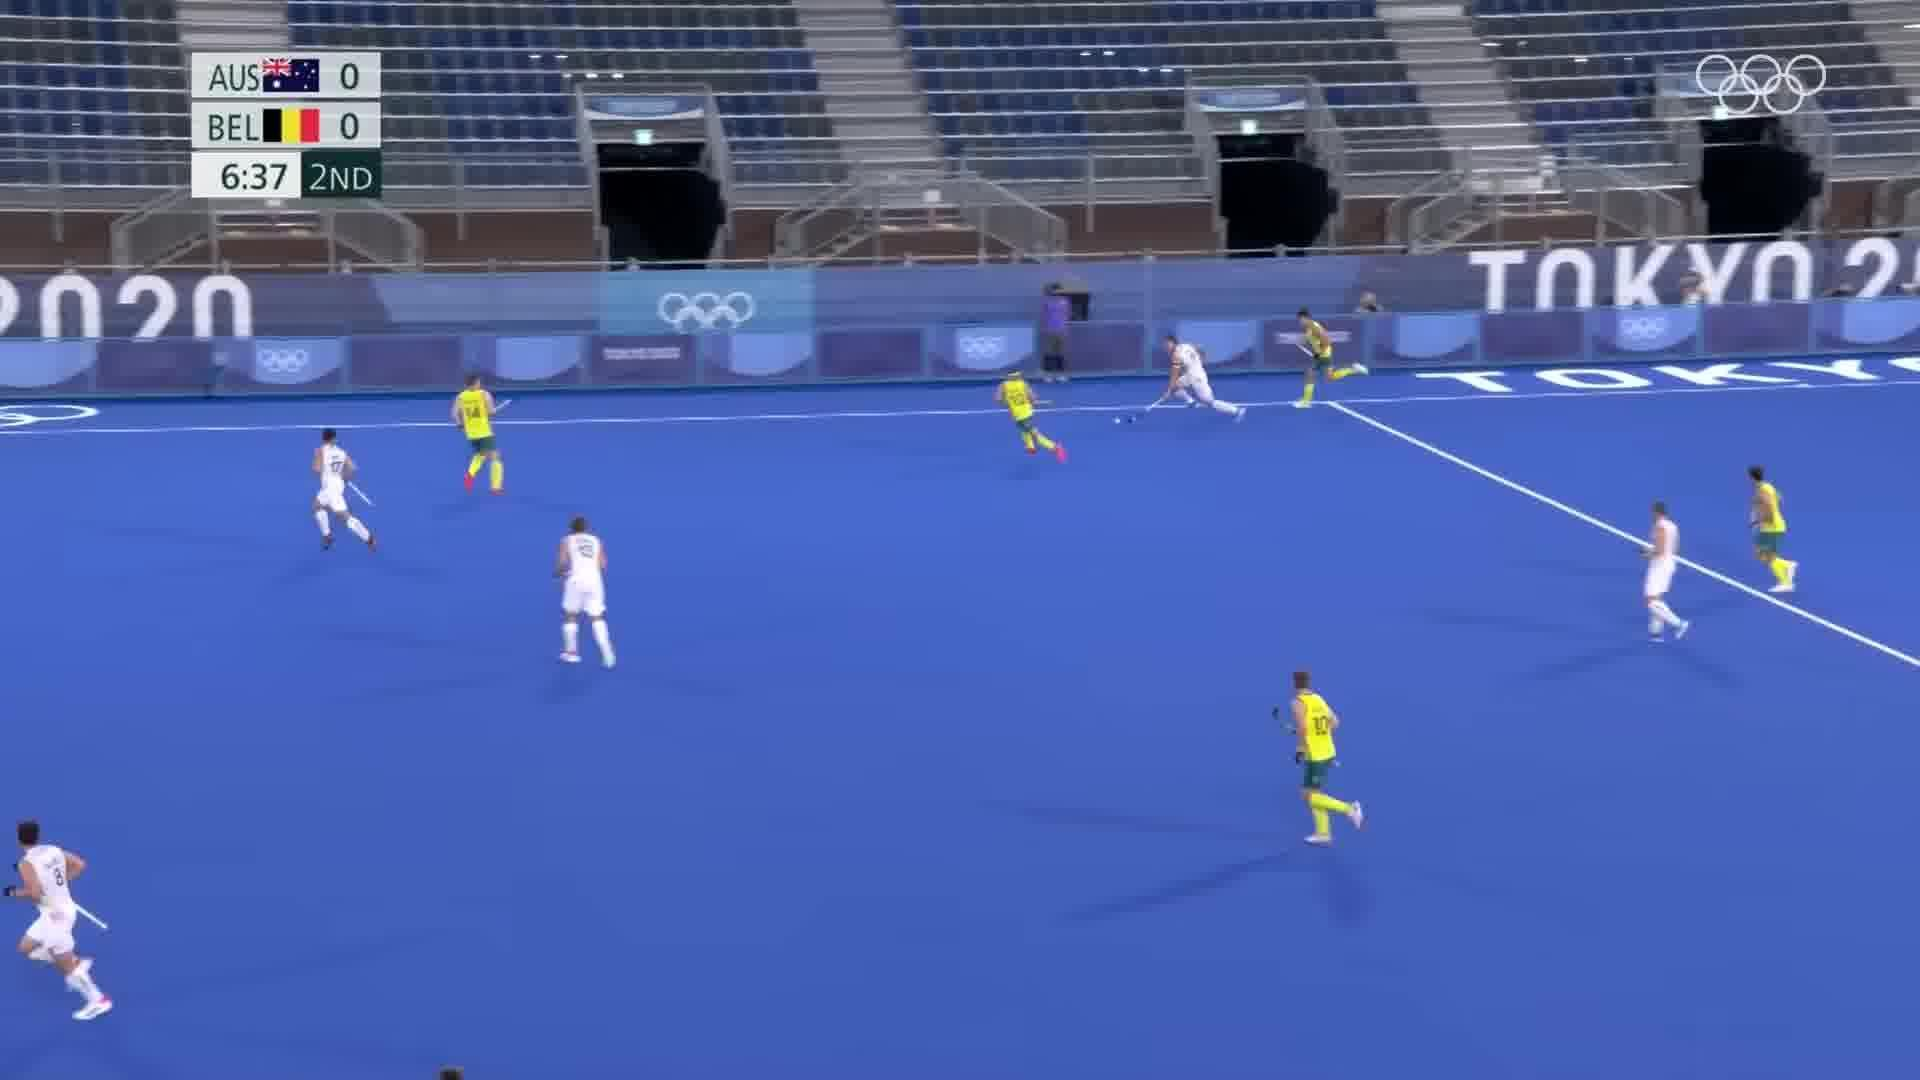ball: (1106, 411, 1129, 430)
